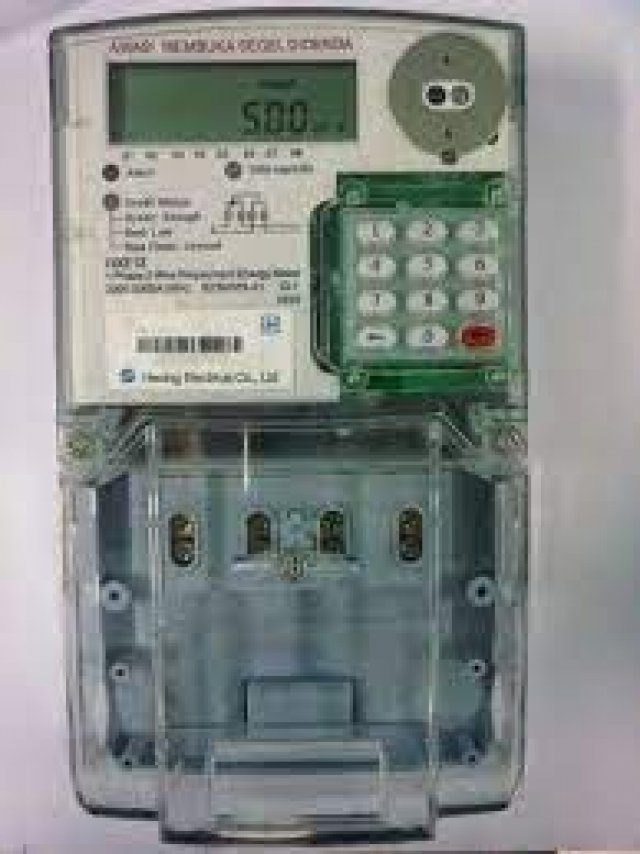box: (109, 61, 360, 146)
